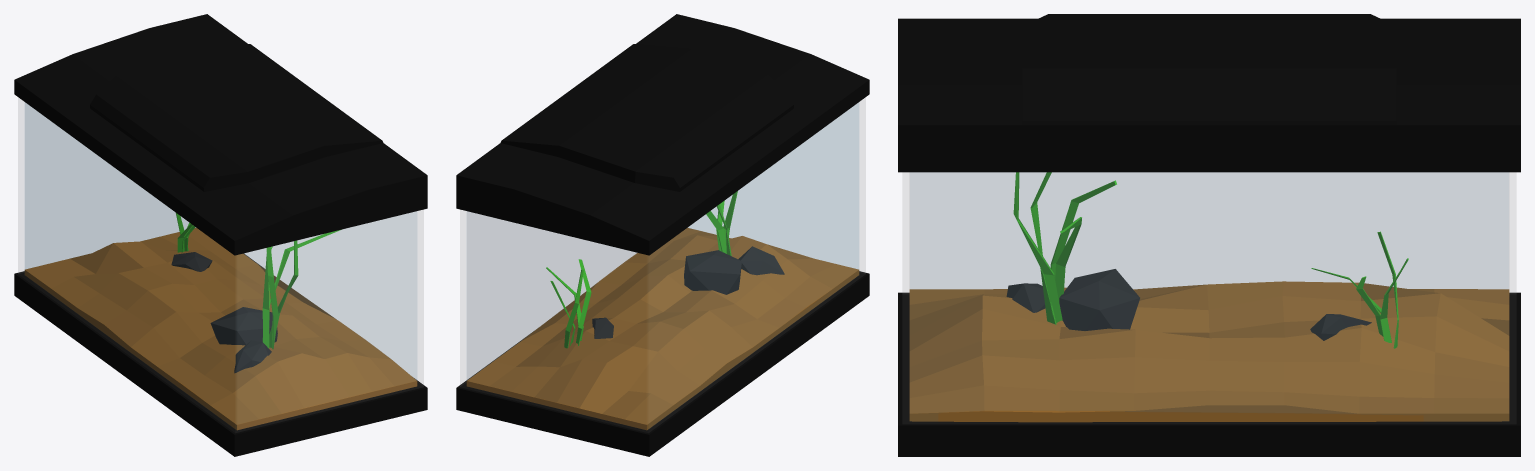
File: FishTank.obj
3 views of the same model, side by side, from view 1: azimuth 30°, elevation 25°; view 2: azimuth 150°, elevation 25°; view 3: azimuth 270°, elevation 25° (orthographic). The views are drawn at different scales.
Parts seen in each view (by area): view 1: Fish_Tank_Cube.003; view 2: Fish_Tank_Cube.003; view 3: Fish_Tank_Cube.003.
Part boxes in pixels (x1,y1,x2,y2): Fish_Tank_Cube.003: [14, 14, 427, 456]; Fish_Tank_Cube.003: [456, 14, 869, 456]; Fish_Tank_Cube.003: [898, 14, 1520, 456].
Size of the model in its own units: 1.29 by 1.57 by 2.55.
